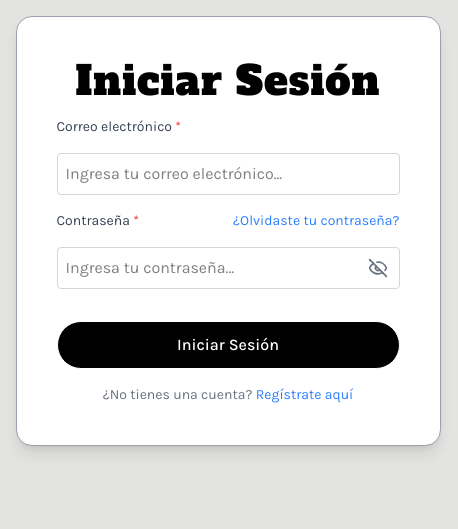
Test case: LoginPage › muestra mensaje de error si falta algun dato
Click the button "Iniciar Sesión": (228, 345) [56,321,400,369]
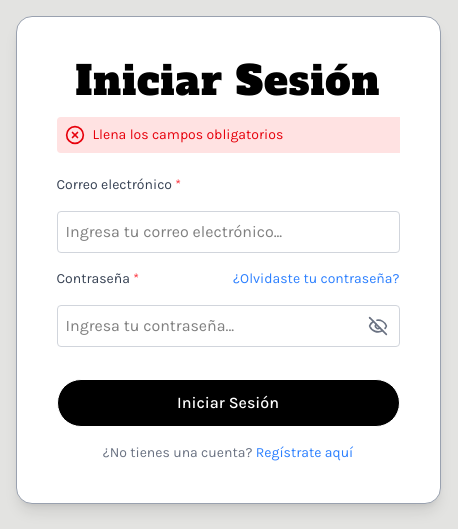
Result: the text "Llena los campos obligatorios" is shown once at [92,125,283,145]
